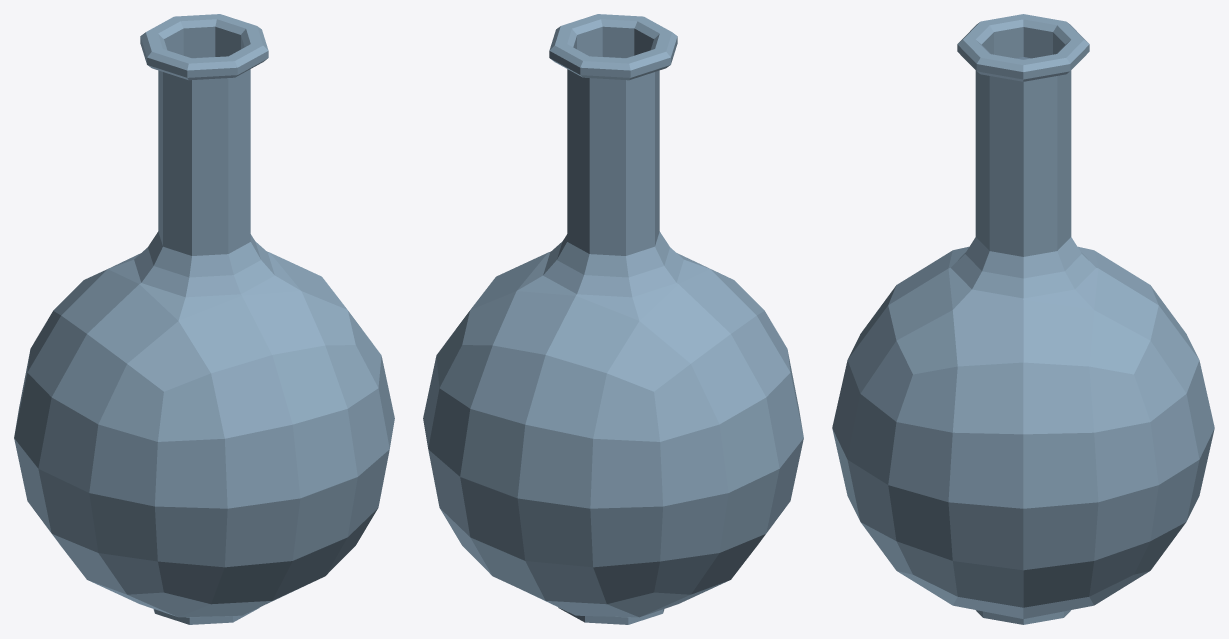
File: Int_ScienceFlask02.fbx
The picture shows the model from 3 angles, left to right: view 1: azimuth 30°, elevation 25°; view 2: azimuth 150°, elevation 25°; view 3: azimuth 270°, elevation 25°; orthographic projection.
Visible parts, largest first — view 1: Int_ScienceFlask02; view 2: Int_ScienceFlask02; view 3: Int_ScienceFlask02.
Boxes of the visible parts, bbox=[...] form: Int_ScienceFlask02: bbox=[14, 14, 394, 624]; Int_ScienceFlask02: bbox=[423, 14, 803, 624]; Int_ScienceFlask02: bbox=[832, 14, 1214, 624].
Size of what is drawn, in the model's own units: 20.37 by 20.37 by 32.97.
